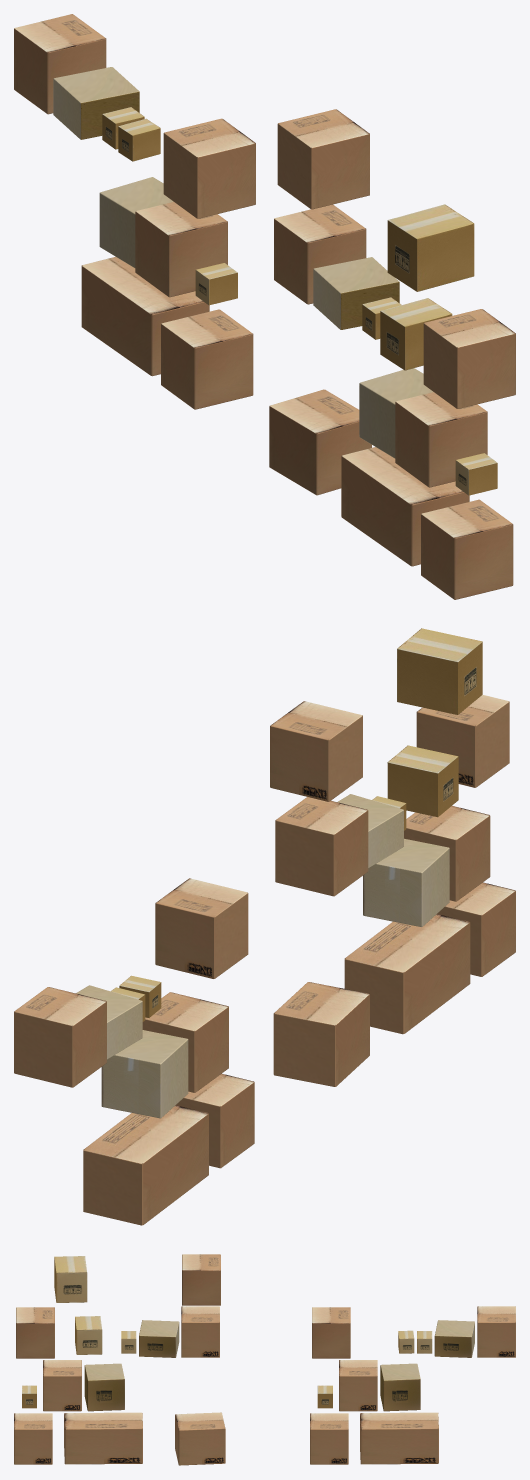
The model's file is cajas.fbx.
3 views of the same model, one above another, from view 1: azimuth 30°, elevation 25°; view 2: azimuth 150°, elevation 25°; view 3: azimuth 270°, elevation 25° (orthographic). The views are drawn at different scales.
Parts seen in each view (by area): view 1: Box Packaging.001, Box Packaging; view 2: Box Packaging.001, Box Packaging; view 3: Box Packaging.001, Box Packaging.
Boxes of the visible parts, x1,y1,x2,y2 form: Box Packaging.001: (269, 109, 515, 599); Box Packaging: (14, 14, 255, 409); Box Packaging.001: (270, 628, 515, 1086); Box Packaging: (14, 878, 254, 1225); Box Packaging.001: (14, 1254, 225, 1465); Box Packaging: (310, 1306, 515, 1464).
Size of the model in its own units: 121 by 582 by 1356.
